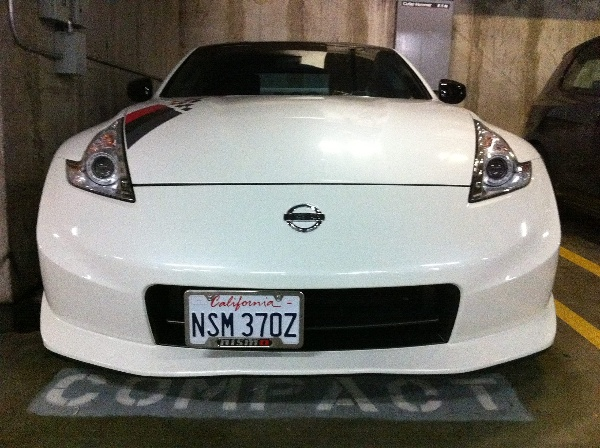licence: (180, 284, 311, 351)
